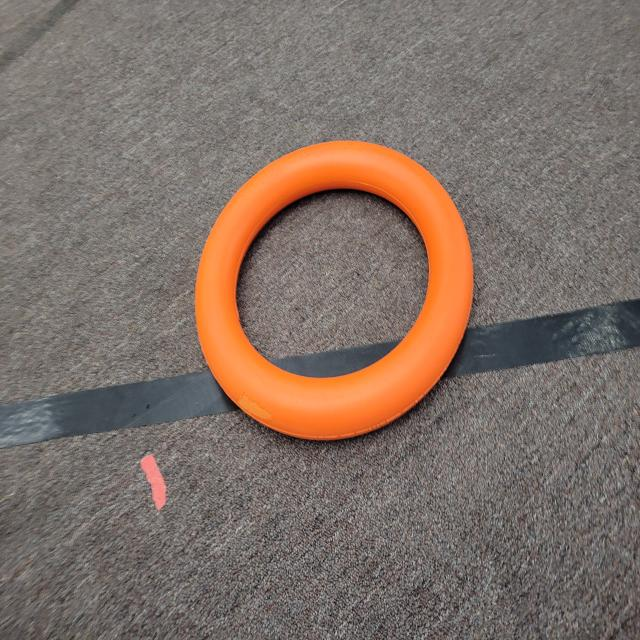note: (192, 128, 483, 448)
